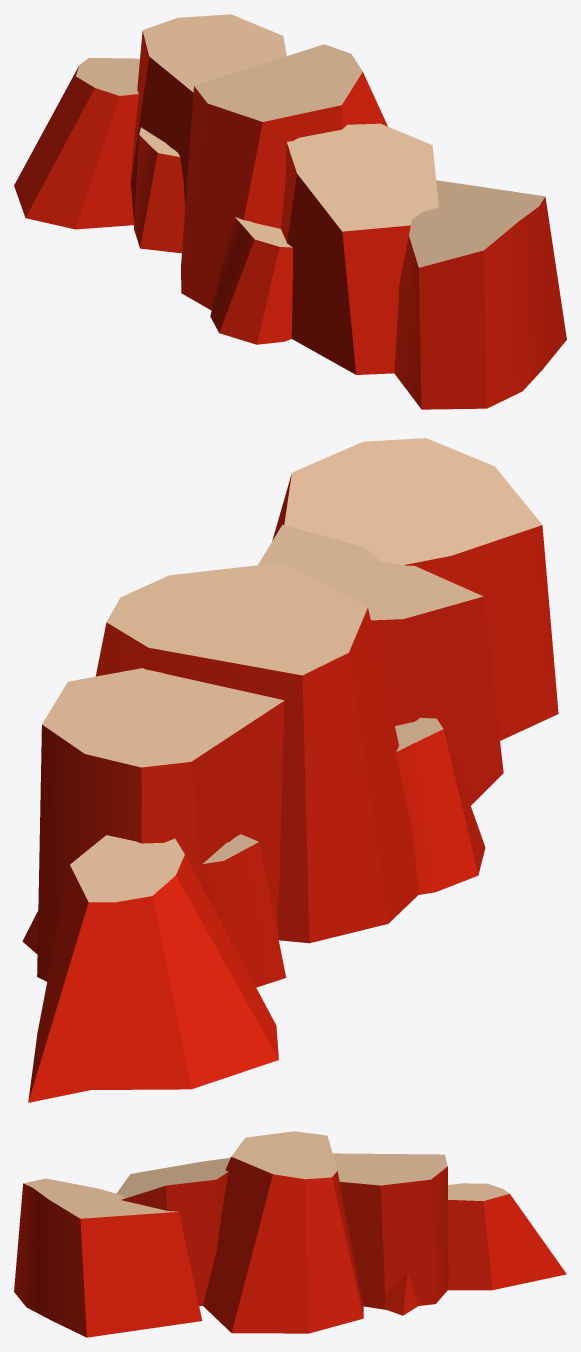
File: Big_Mountain_02.fbx
The picture shows the model from 3 angles, top to bottom: view 1: azimuth 30°, elevation 25°; view 2: azimuth 150°, elevation 25°; view 3: azimuth 270°, elevation 25°; orthographic projection. The views are drawn at different scales.
Parts seen in each view (by area): view 1: Big_Moutain_02; view 2: Big_Moutain_02; view 3: Big_Moutain_02.
Part boxes in pixels (left/top/right/bottom): Big_Moutain_02: left=14, top=14, right=566, bottom=409; Big_Moutain_02: left=22, top=438, right=558, bottom=1102; Big_Moutain_02: left=14, top=1131, right=566, bottom=1337.
Size of the model in its own units: 3151 by 2049 by 7468.
